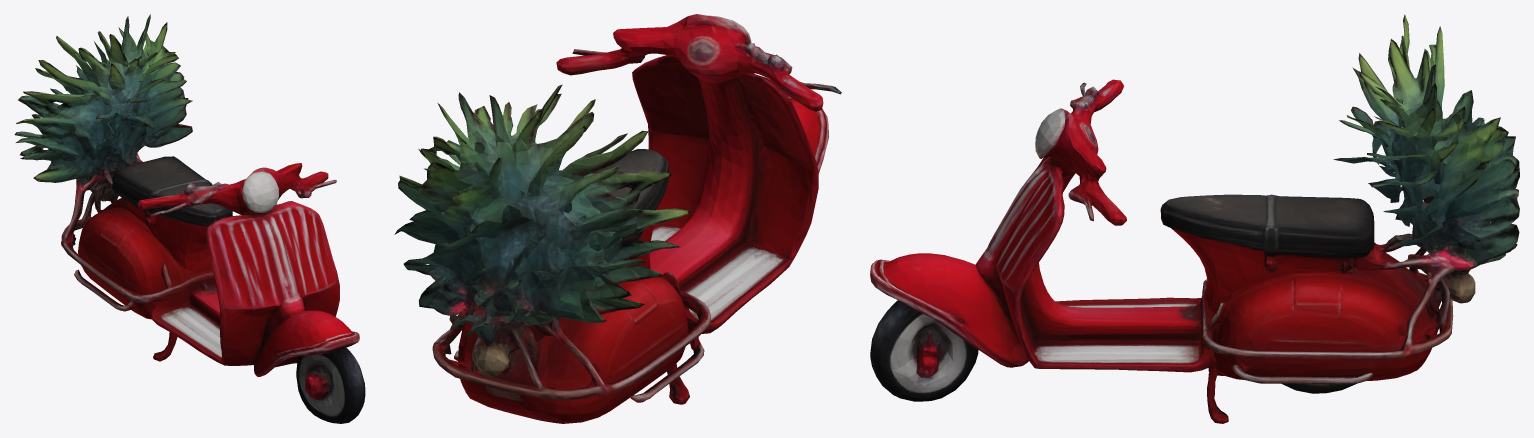
Rendered from Toy1.glb.
The picture shows the model from 3 angles, left to right: view 1: azimuth 30°, elevation 25°; view 2: azimuth 150°, elevation 25°; view 3: azimuth 270°, elevation 25°; orthographic projection. The views are drawn at different scales.
Parts seen in each view (by area): view 1: world; view 2: world; view 3: world.
Boxes of the visible parts, x1,y1,x2,y2 form: world: (14,14,365,423); world: (394,14,841,423); world: (870,14,1519,423).
Size of the model in its own units: 0.4614 by 0.5909 by 0.9995.
Materials: 1 (1 with a texture image).
